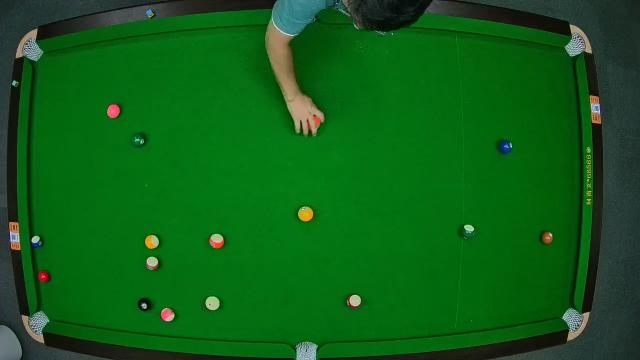bag1: (20, 38, 40, 60)
bag3: (568, 36, 588, 56)
bag4: (28, 310, 48, 334)
bag5: (294, 340, 318, 360)
bag6: (560, 309, 584, 331)
ball0: (204, 296, 220, 312)
ball1: (297, 206, 313, 222)
ball10: (30, 234, 42, 250)
ball11: (346, 294, 362, 310)
ball12: (160, 307, 176, 323)
ball13: (208, 233, 226, 249)
ball14: (460, 224, 476, 241)
ball15: (146, 256, 160, 270)
ball2: (498, 138, 514, 154)
ball3: (38, 269, 51, 283)
ball4: (106, 104, 120, 118)
ball6: (132, 132, 146, 148)
ball7: (539, 229, 553, 244)
ball8: (136, 296, 152, 312)
ball9: (144, 234, 160, 250)
